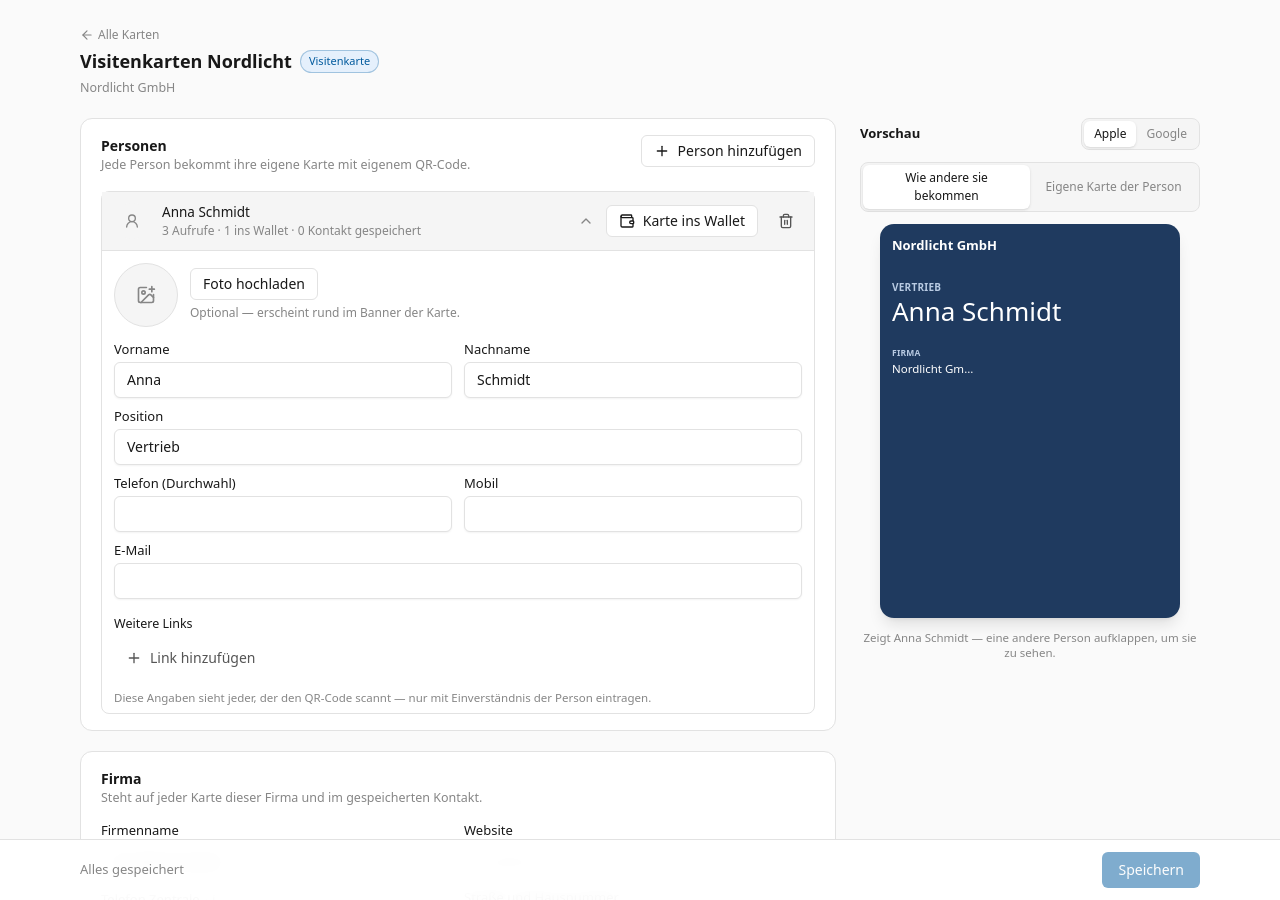
it: BusinessCardEditor › removes a saved person only on save, and can undo it
The image size is (1280, 900).
What coordinates should you click on to do the following:
click the button named "Person entfernen"
I would click on:
 (786, 221)
Its box is [770,205,802,237].
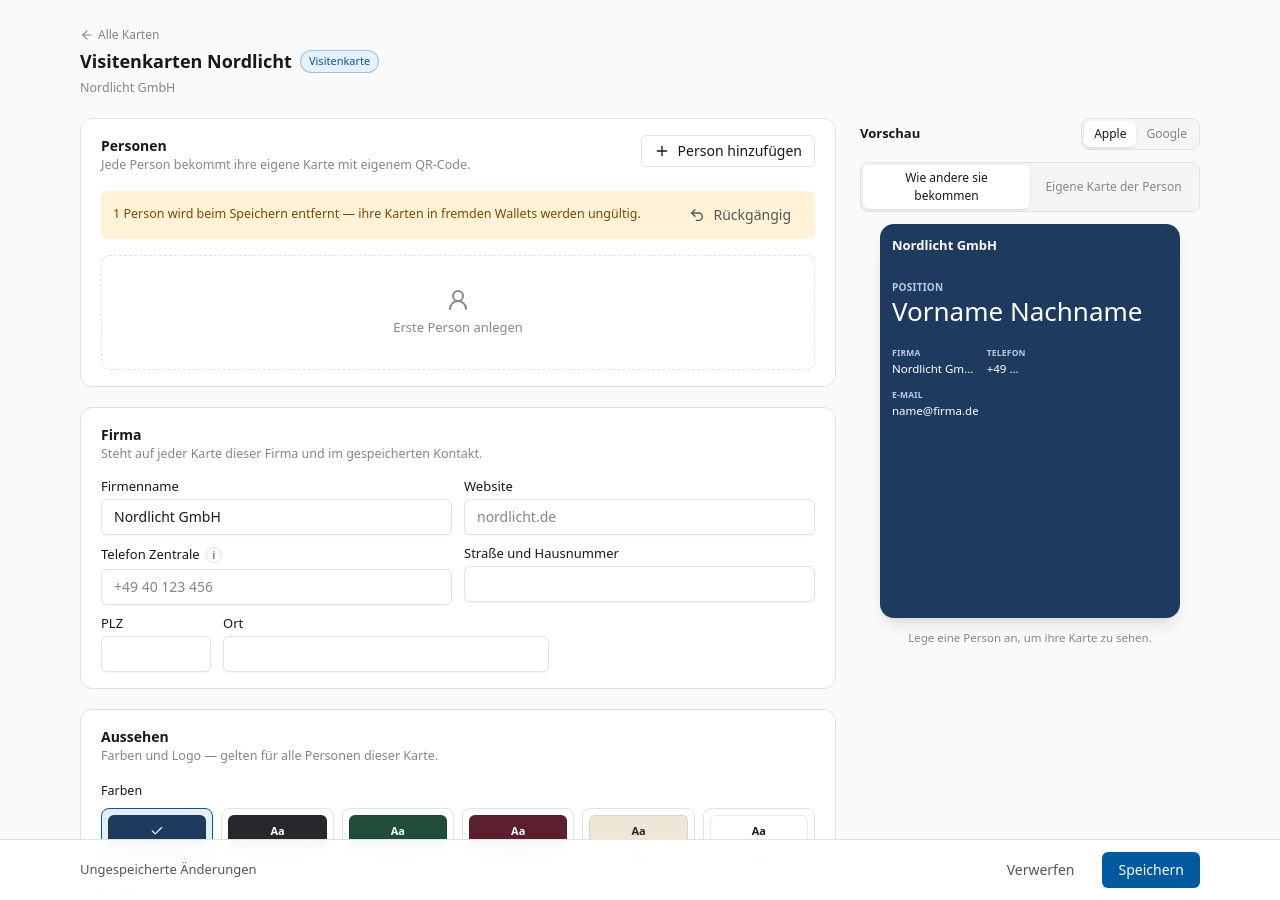
Expected: the text "1 Person wird beim Speichern entfernt" is shown, [113,205,641,224]
What coordinates should you click on to do the following:
click the button "Rückgängig"
I would click on:
 (740, 214)
Its box is [678,198,803,230].
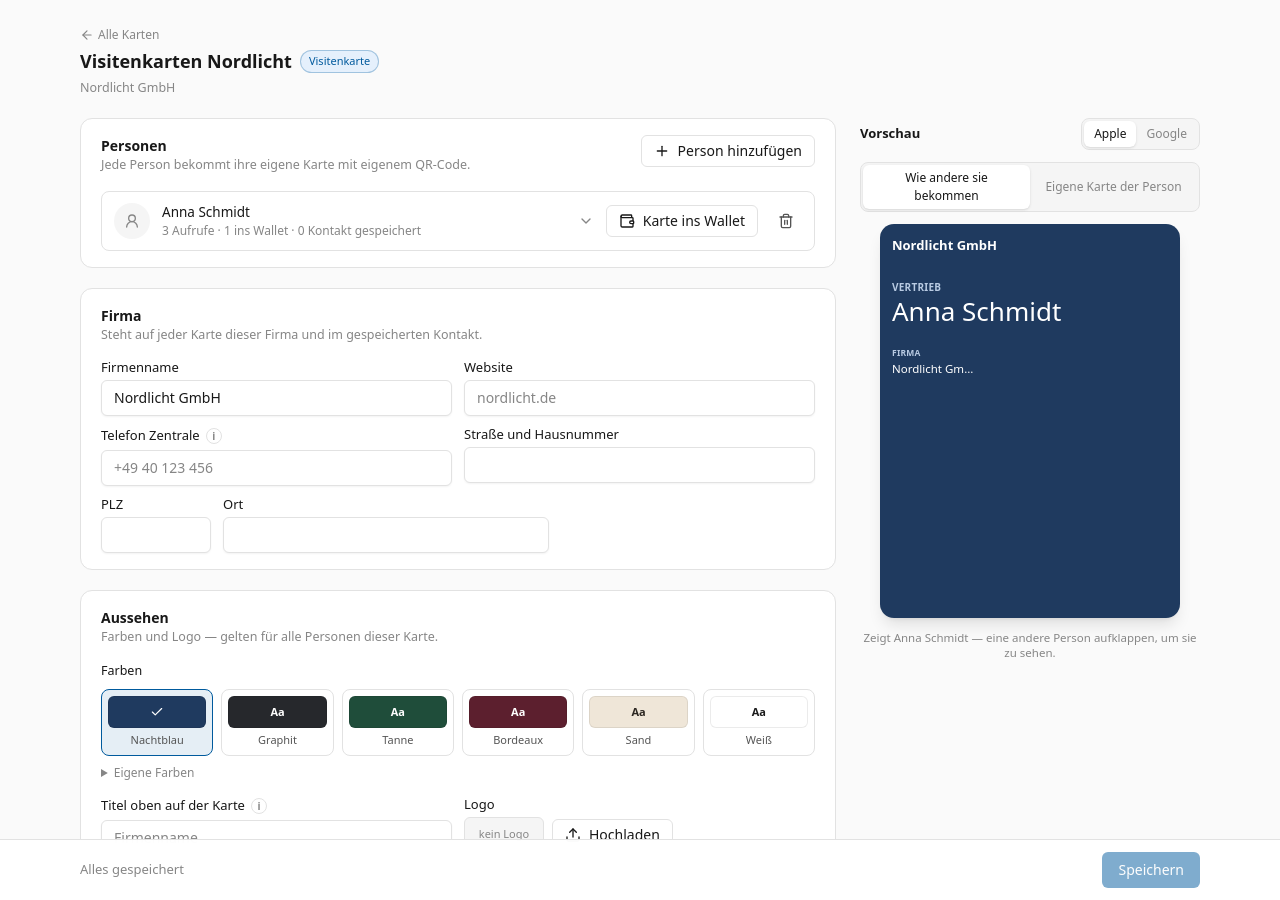
Expected: the text "Alles gespeichert" is shown, [80,860,184,880]
